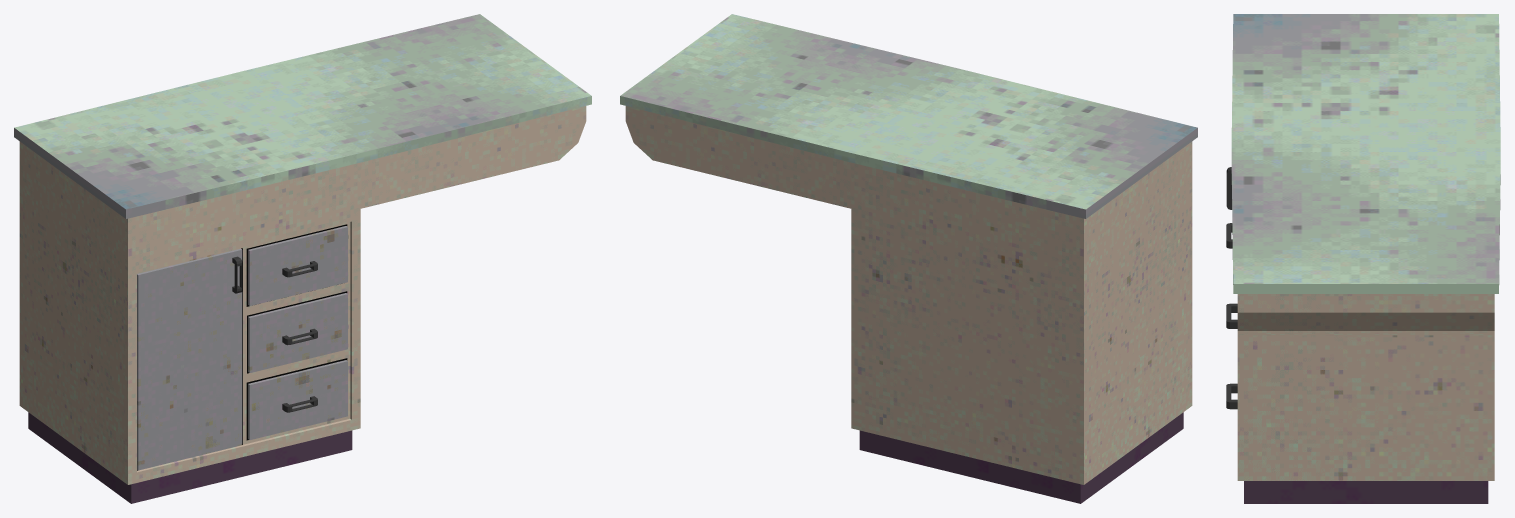
The model's file is Clinic Table.fbx.
3 renders of one model, left to right at view 1: azimuth 30°, elevation 25°; view 2: azimuth 150°, elevation 25°; view 3: azimuth 270°, elevation 25°, orthographic. The views are drawn at different scales.
Parts seen in each view (by area): view 1: Clinic Table; view 2: Clinic Table; view 3: Clinic Table.
Boxes of the visible parts, x1,y1,x2,y2 form: Clinic Table: (14, 14, 591, 503); Clinic Table: (620, 14, 1197, 503); Clinic Table: (1226, 14, 1500, 503).
Bounding box in the file's own units: 2.37 × 1.46 × 1.02.
4 materials, 2 textured.
